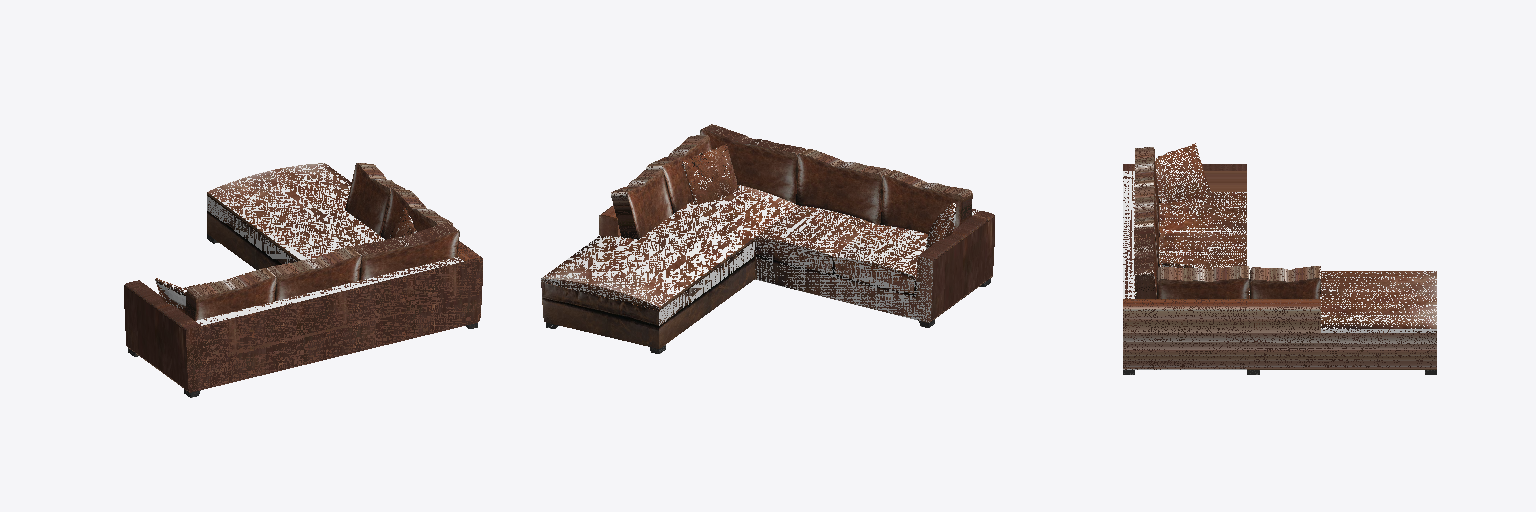
3 views of the same model, side by side, from view 1: azimuth 30°, elevation 25°; view 2: azimuth 150°, elevation 25°; view 3: azimuth 270°, elevation 25° (orthographic).
Visible parts, largest first — view 1: mesh10_mesh10-geometry, mesh4_mesh4-geometry, mesh1_mesh1-geometry, mesh3_mesh3-geometry, mesh5_mesh5-geometry, mesh2_mesh2-geometry, mesh6_mesh6-geometry, mesh7_mesh7-geometry, mesh8_mesh8-geometry; view 2: mesh10_mesh10-geometry, mesh3_mesh3-geometry, mesh4_mesh4-geometry, mesh1_mesh1-geometry, mesh5_mesh5-geometry, mesh9_mesh9-geometry, mesh6_mesh6-geometry, mesh2_mesh2-geometry, mesh7_mesh7-geometry, mesh8_mesh8-geometry; view 3: mesh10_mesh10-geometry, mesh2_mesh2-geometry, mesh8_mesh8-geometry, mesh5_mesh5-geometry, mesh4_mesh4-geometry, mesh3_mesh3-geometry, mesh1_mesh1-geometry.
Boxes of the visible parts, box(x1,y1,x2,y2) form: mesh10_mesh10-geometry: box(124, 163, 482, 397); mesh4_mesh4-geometry: box(354, 222, 459, 280); mesh1_mesh1-geometry: box(185, 268, 276, 320); mesh3_mesh3-geometry: box(268, 246, 361, 300); mesh5_mesh5-geometry: box(345, 163, 404, 235); mesh2_mesh2-geometry: box(381, 189, 452, 239); mesh6_mesh6-geometry: box(207, 211, 280, 269); mesh7_mesh7-geometry: box(207, 196, 296, 264); mesh8_mesh8-geometry: box(155, 278, 186, 312); mesh10_mesh10-geometry: box(541, 185, 994, 353); mesh3_mesh3-geometry: box(796, 149, 890, 224); mesh4_mesh4-geometry: box(700, 124, 805, 203); mesh1_mesh1-geometry: box(880, 170, 972, 233); mesh5_mesh5-geometry: box(611, 169, 672, 239); mesh9_mesh9-geometry: box(682, 144, 738, 203); mesh6_mesh6-geometry: box(659, 256, 754, 348); mesh2_mesh2-geometry: box(646, 135, 711, 213); mesh7_mesh7-geometry: box(659, 241, 754, 325); mesh8_mesh8-geometry: box(926, 203, 955, 249); mesh10_mesh10-geometry: box(1123, 164, 1436, 374); mesh2_mesh2-geometry: box(1157, 266, 1249, 298); mesh8_mesh8-geometry: box(1155, 143, 1211, 202); mesh5_mesh5-geometry: box(1250, 266, 1320, 298); mesh4_mesh4-geometry: box(1134, 226, 1158, 298); mesh3_mesh3-geometry: box(1135, 185, 1159, 266); mesh1_mesh1-geometry: box(1135, 147, 1158, 221).
Bounding box in the file's own units: 0.7172 × 0.2272 × 0.6588.
Materials: 12 (8 with a texture image).